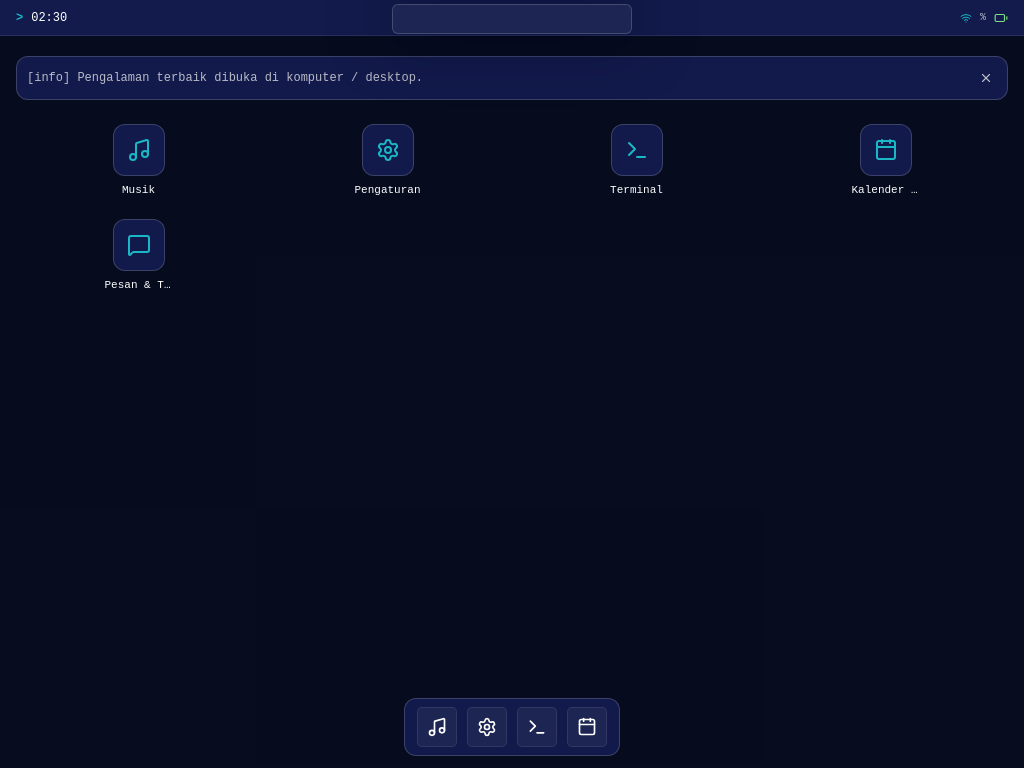
Test case: MobileRoot Component Tests › displays desktop advisory banner by default and hides when dismissed
This screenshot has width=1024, height=768.
Expected: the element with test id "desktop-banner" is shown, [16,56,1008,100]
What coordinates should you click on to do the following:
click the button with test id "dismiss-banner-btn"
I would click on:
 (986, 78)
Its box is [975,67,997,89].
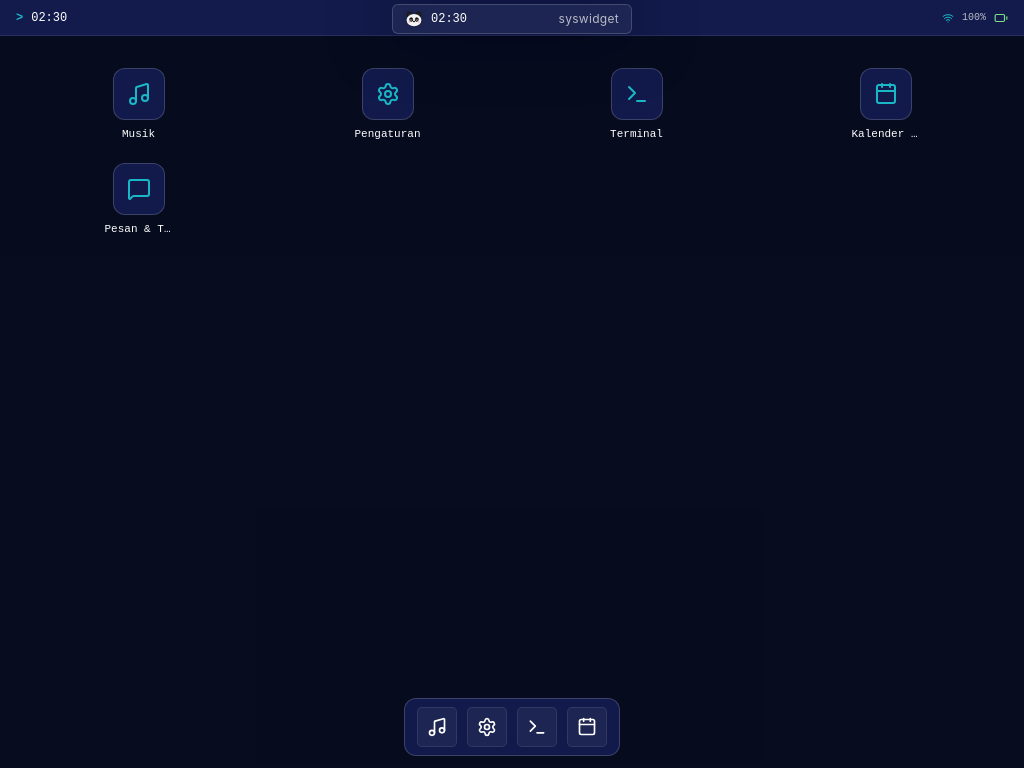
Now the element with test id "desktop-banner" is gone
